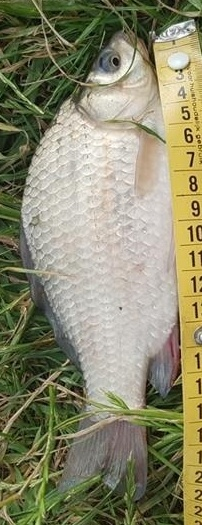Carassius carassius: (20, 20, 182, 505)
